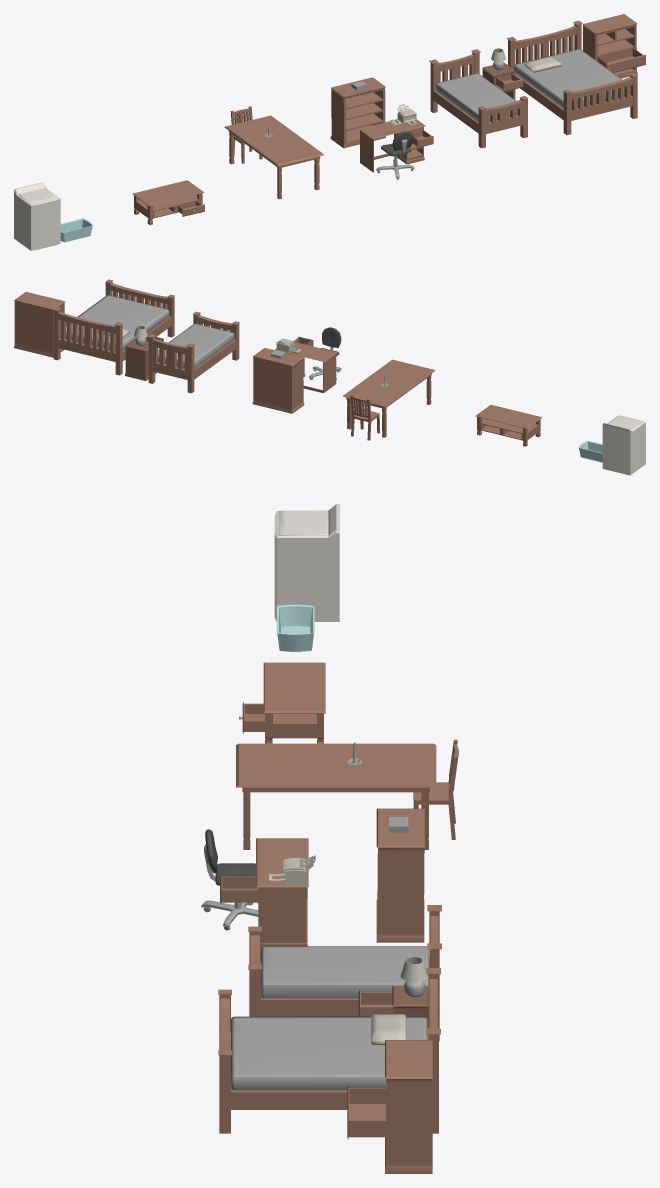
The model's file is laundry_washing_basket.fbx.
3 renders of one model, top to bottom at view 1: azimuth 30°, elevation 25°; view 2: azimuth 150°, elevation 25°; view 3: azimuth 270°, elevation 25°, orthographic. The views are drawn at different scales.
Visible parts, largest first — view 1: CZ_QueenBed01, CZ_SingleBed01, CZ_DiningTable01, CZ_QueenMatress01, CZ_Bookshelf01, CZ_WashingMachineBase01, CZ_ChestofDrawers01, CZ_SignleMatress01, CZ_CoffeeTable01, CZ_DeskUnit01, CZ_OfficeChair01, CZ_Drawer01 (+6 smaller); view 2: CZ_QueenBed01, CZ_SingleBed01, CZ_Bookshelf01, CZ_DiningTable01, CZ_ChestofDrawers01, CZ_QueenMatress01, CZ_WashingMachineBase01, CZ_CoffeeTable01, CZ_SignleMatress01, CZ_DeskUnit01, CZ_BSDrawers01, CZ_DiningChair01 (+3 smaller); view 3: CZ_QueenMatress01, CZ_DiningTable01, CZ_SignleMatress01, CZ_ChestofDrawers01, CZ_Bookshelf01, CZ_QueenBed01, CZ_WashingMachineBase01, CZ_DeskUnit01, CZ_CoffeeTable01, CZ_SingleBed01, CZ_Drawer01, CZ_OfficeChair01 (+6 smaller).
Boxes of the visible parts, x1,y1,x2,y2 form: CZ_QueenBed01: (506, 20, 637, 135); CZ_SingleBed01: (429, 49, 528, 148); CZ_DiningTable01: (224, 115, 324, 199); CZ_QueenMatress01: (514, 49, 630, 108); CZ_Bookshelf01: (330, 77, 385, 148); CZ_WashingMachineBase01: (14, 182, 60, 250); CZ_ChestofDrawers01: (582, 14, 637, 78); CZ_SignleMatress01: (436, 73, 517, 121); CZ_CoffeeTable01: (132, 180, 203, 224); CZ_DeskUnit01: (359, 119, 425, 172); CZ_OfficeChair01: (376, 131, 414, 179); CZ_Drawer01: (597, 48, 645, 72); CZ_QueenBed01: (52, 279, 174, 375); CZ_SingleBed01: (147, 311, 239, 393); CZ_Bookshelf01: (252, 348, 304, 413); CZ_DiningTable01: (342, 359, 435, 437); CZ_ChestofDrawers01: (14, 292, 65, 357); CZ_QueenMatress01: (60, 295, 169, 350); CZ_WashingMachineBase01: (602, 415, 645, 475); CZ_CoffeeTable01: (475, 405, 542, 446); CZ_SignleMatress01: (158, 323, 234, 368); CZ_DeskUnit01: (275, 342, 337, 393); CZ_BSDrawers01: (125, 339, 156, 380); CZ_DiningChair01: (350, 394, 380, 440); CZ_QueenMatress01: (231, 1016, 427, 1090); CZ_DiningTable01: (236, 743, 436, 849); CZ_SignleMatress01: (261, 946, 428, 998); CZ_ChestofDrawers01: (385, 1040, 432, 1173); CZ_Bookshelf01: (376, 808, 424, 942); CZ_QueenBed01: (218, 968, 440, 1133); CZ_WashingMachineBase01: (274, 504, 339, 621); CZ_DeskUnit01: (256, 838, 308, 947); CZ_CoffeeTable01: (263, 662, 325, 743); CZ_SingleBed01: (248, 905, 441, 1041); CZ_Drawer01: (347, 1085, 385, 1139); CZ_OfficeChair01: (201, 829, 258, 930).
Size of the model in its own units: 14.35 by 1.19 by 2.7.
